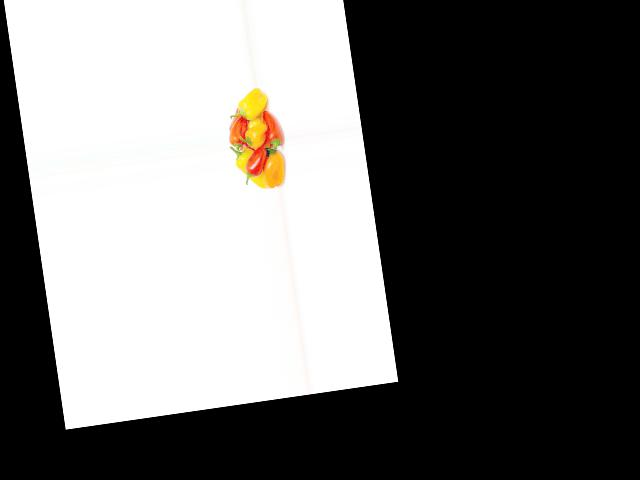bell_pepper: (231, 145, 267, 192)
